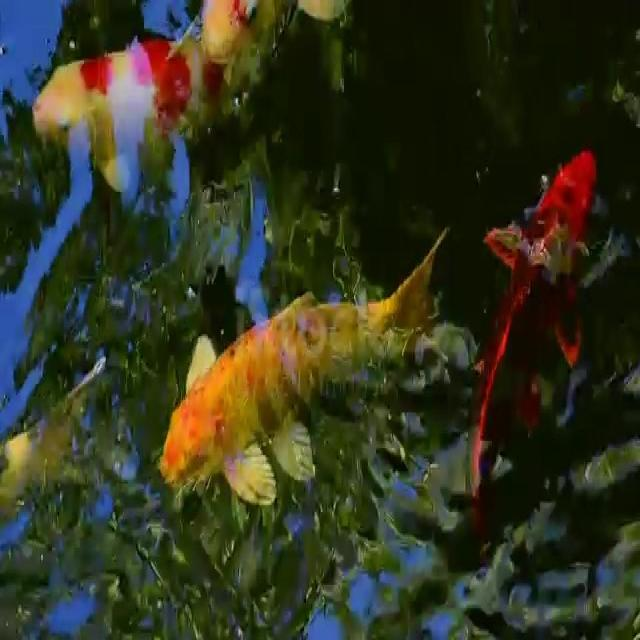fish: (157, 226, 450, 507), (471, 142, 602, 496), (26, 0, 195, 213), (188, 0, 296, 62)
